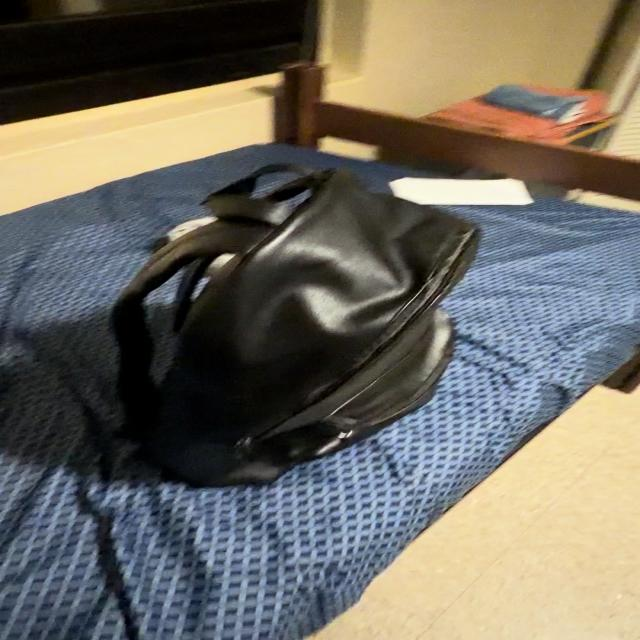backpack: (113, 165, 477, 486)
